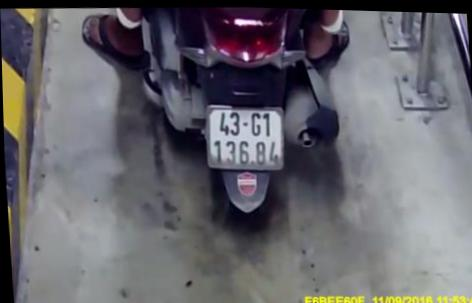LP: (202, 99, 288, 172)
